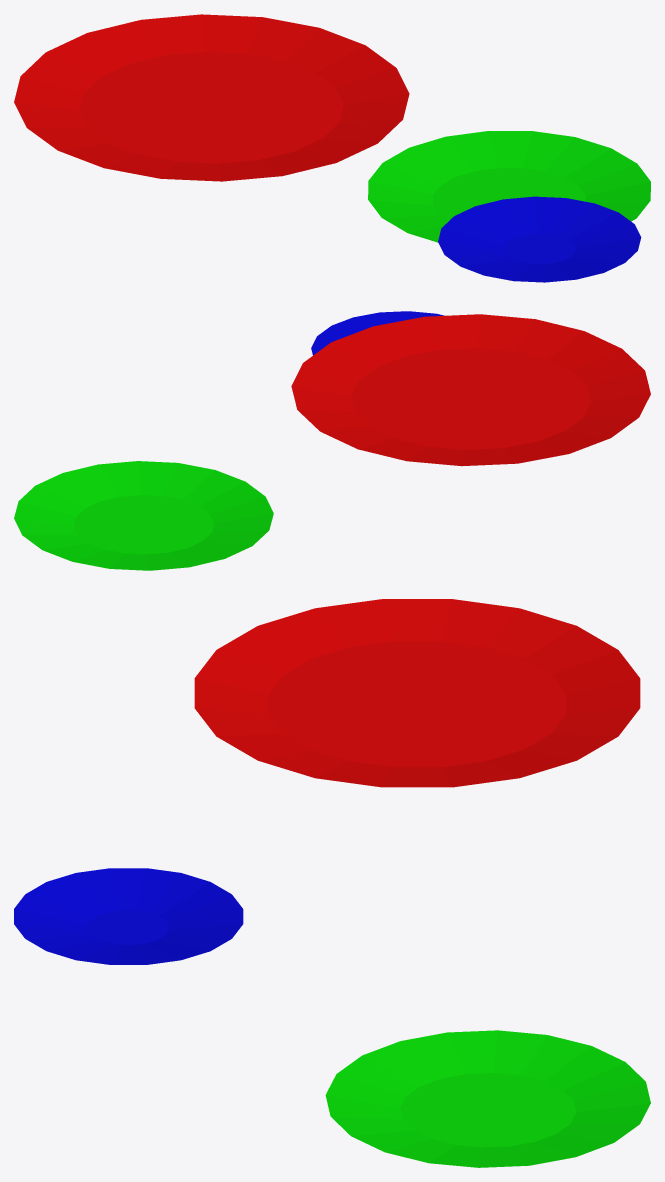
The model's file is projector_lenses.obj.
3 views of the same model, one above another, from view 1: azimuth 30°, elevation 25°; view 2: azimuth 150°, elevation 25°; view 3: azimuth 270°, elevation 25° (orthographic). The views are drawn at different scales.
Visible parts, largest first — view 1: object 1, lens_cap; view 2: object 1, lens_cap; view 3: object 1, lens_cap.
Boxes of the visible parts, left/top/right/bottom form: object 1: left=14, top=14, right=650, bottom=282; lens_cap: left=79, top=52, right=585, bottom=264; object 1: left=14, top=311, right=650, bottom=570; lens_cap: left=73, top=348, right=591, bottom=554; object 1: left=14, top=599, right=650, bottom=1167; lens_cap: left=87, top=641, right=576, bottom=1147.
Size of the model in its own units: 0.1663 by 0.0525 by 0.1294.
